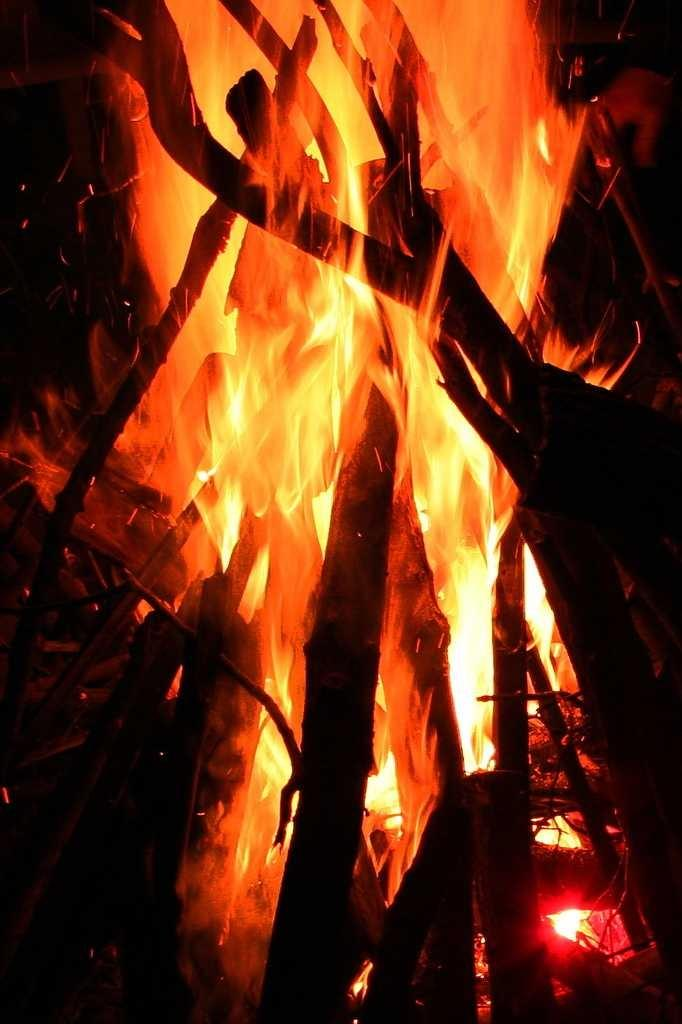fire: (182, 278, 340, 535), (432, 15, 560, 225), (422, 415, 482, 658)
